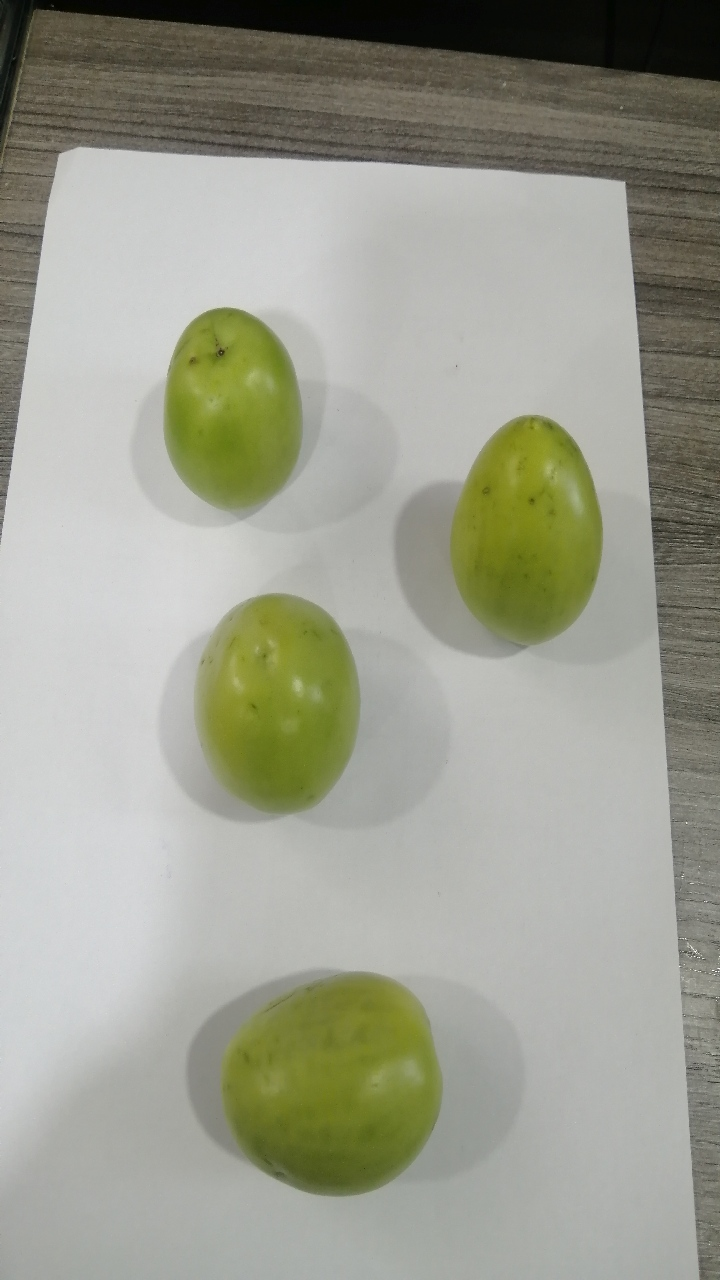tomateVerde: (191, 955, 474, 1217), (412, 391, 629, 668), (161, 575, 386, 837), (134, 282, 344, 529)
